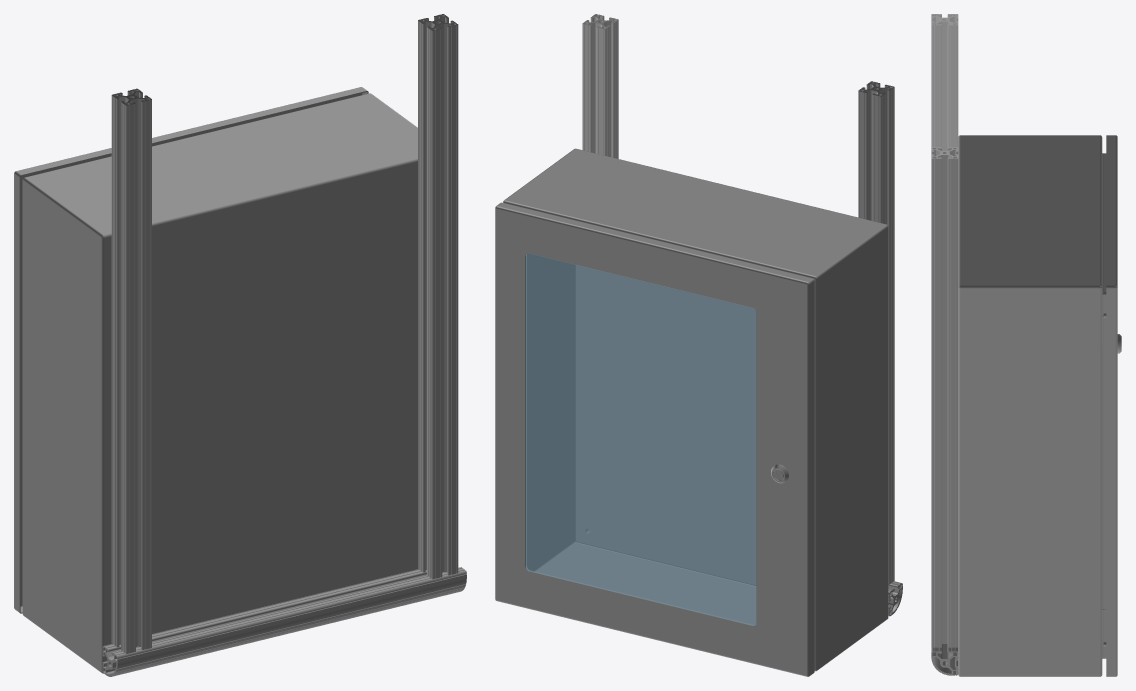
File: Ebox.obj
3 renders of one model, left to right at view 1: azimuth 30°, elevation 25°; view 2: azimuth 150°, elevation 25°; view 3: azimuth 270°, elevation 25°, orthographic. The views are drawn at different scales.
Parts seen in each view (by area): view 1: mesh107, mesh125, mesh115, mesh469, mesh461, mesh389, mesh467, mesh351, mesh475, mesh364, mesh345, mesh543 (+37 smaller); view 2: mesh492, mesh509, mesh548, mesh479, mesh125, mesh115, mesh86, mesh103, mesh38, mesh543, mesh467, mesh350 (+16 smaller); view 3: mesh111, mesh115, mesh537, mesh408, mesh464, mesh471, mesh535, mesh347, mesh348, mesh358, mesh359, mesh378 (+21 smaller).
Boxes of the visible parts, x1=… form: mesh107: x1=104, y1=161, x2=417, y2=661; mesh125: x1=23, y1=180, x2=101, y2=671; mesh115: x1=25, y1=93, x2=417, y2=234; mesh469: x1=129, y1=29, x2=439, y2=653; mesh461: x1=145, y1=25, x2=455, y2=649; mesh389: x1=138, y1=24, x2=449, y2=646; mesh467: x1=122, y1=28, x2=430, y2=652; mesh351: x1=116, y1=24, x2=424, y2=647; mesh475: x1=113, y1=22, x2=421, y2=645; mesh364: x1=141, y1=27, x2=449, y2=649; mesh345: x1=125, y1=31, x2=433, y2=653; mesh543: x1=14, y1=174, x2=19, y2=611; mesh492: x1=527, y1=253, x2=756, y2=624; mesh509: x1=526, y1=254, x2=755, y2=624; mesh548: x1=496, y1=209, x2=806, y2=675; mesh479: x1=581, y1=266, x2=756, y2=578; mesh125: x1=817, y1=227, x2=887, y2=668; mesh115: x1=505, y1=149, x2=885, y2=275; mesh86: x1=526, y1=253, x2=574, y2=570; mesh103: x1=536, y1=543, x2=756, y2=625; mesh38: x1=576, y1=265, x2=756, y2=584; mesh543: x1=810, y1=281, x2=814, y2=674; mesh467: x1=615, y1=21, x2=893, y2=582; mesh350: x1=612, y1=23, x2=890, y2=584; mesh111: x1=960, y1=288, x2=1099, y2=675; mesh115: x1=960, y1=135, x2=1099, y2=285; mesh537: x1=1106, y1=288, x2=1115, y2=675; mesh408: x1=942, y1=21, x2=947, y2=643; mesh464: x1=951, y1=25, x2=955, y2=647; mesh471: x1=934, y1=25, x2=938, y2=647; mesh535: x1=1106, y1=135, x2=1115, y2=285; mesh347: x1=931, y1=25, x2=932, y2=647; mesh348: x1=957, y1=25, x2=958, y2=647; mesh358: x1=947, y1=25, x2=948, y2=647; mesh359: x1=940, y1=25, x2=941, y2=647; mesh378: x1=933, y1=25, x2=934, y2=647.
Bounding box in the file's own units: 0.508 × 0.8033 × 0.2686.
